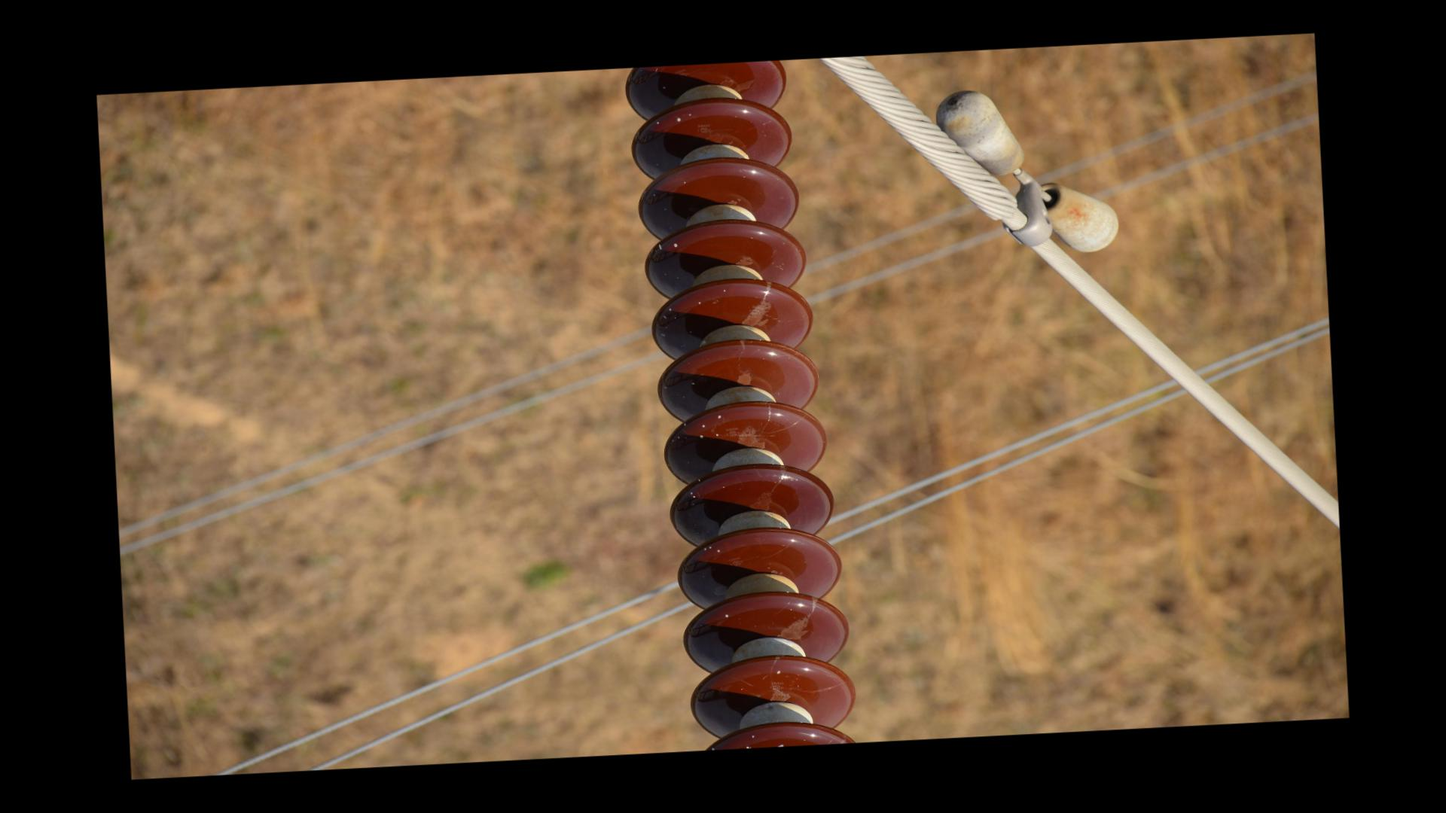damper: (929, 76, 1125, 266)
